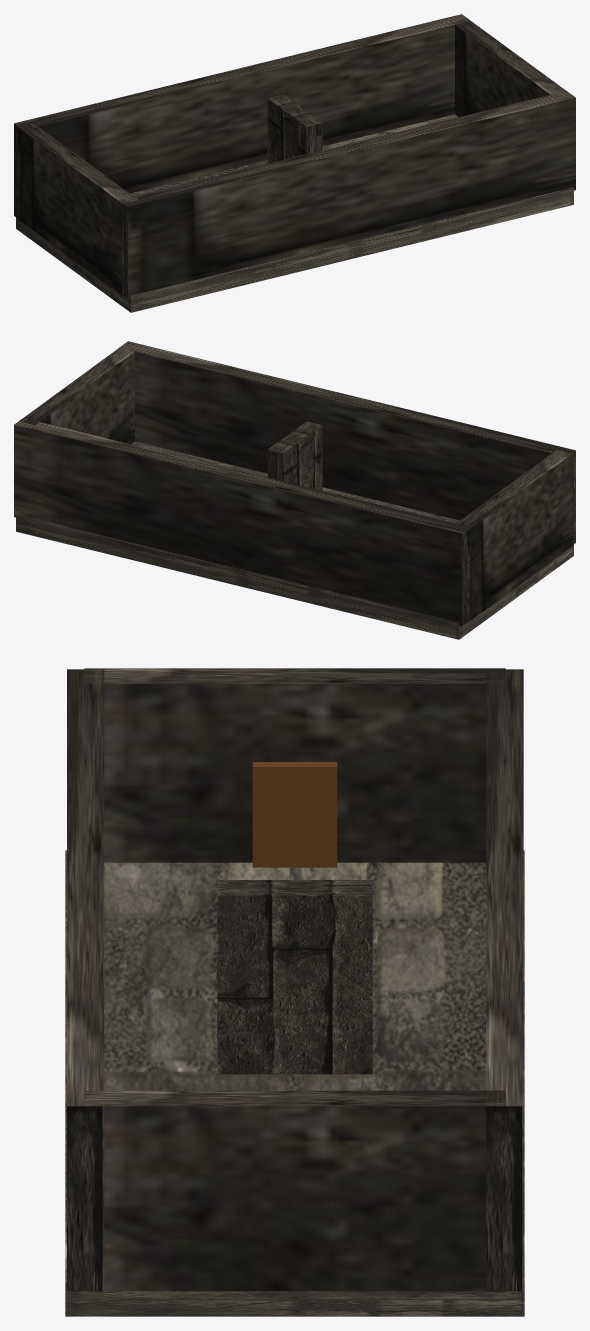
The model's file is dungeontest-a.glb.
3 views of the same model, one above another, from view 1: azimuth 30°, elevation 25°; view 2: azimuth 150°, elevation 25°; view 3: azimuth 270°, elevation 25° (orthographic). The views are drawn at different scales.
Visible parts, largest first — view 1: Cube.002, Cube.003, Cube.005, Cube, Cube.004, Cube.001; view 2: Cube.003, Cube.002, Cube.005, Cube, Cube.004, Cube.001; view 3: Cube.004, Cube, Cube.005, Cube.001, Cube.003, Cube.002, Cube.006.
Part boxes in pixels (box(x1,y1,x2,y2)): Cube.002: box(119, 94, 575, 299); Cube.003: box(14, 14, 470, 217); Cube.005: box(17, 123, 138, 296); Cube: box(16, 114, 573, 312); Cube.004: box(451, 18, 570, 116); Cube.001: box(267, 94, 322, 163); Cube.003: box(14, 418, 470, 626); Cube.002: box(119, 341, 575, 544); Cube.005: box(452, 450, 572, 623); Cube: box(16, 441, 573, 639); Cube.004: box(19, 344, 137, 443); Cube.001: box(267, 421, 322, 490); Cube.004: box(84, 1090, 505, 1291); Cube: box(65, 850, 524, 1316); Cube.005: box(84, 668, 505, 862); Cube.001: box(217, 880, 372, 1074); Cube.003: box(486, 669, 523, 1291); Cube.002: box(67, 669, 104, 1291); Cube.006: box(252, 762, 337, 867).
Size of the model in its own units: 39.06 by 8.83 by 17.3.
4 materials, 3 textured.
